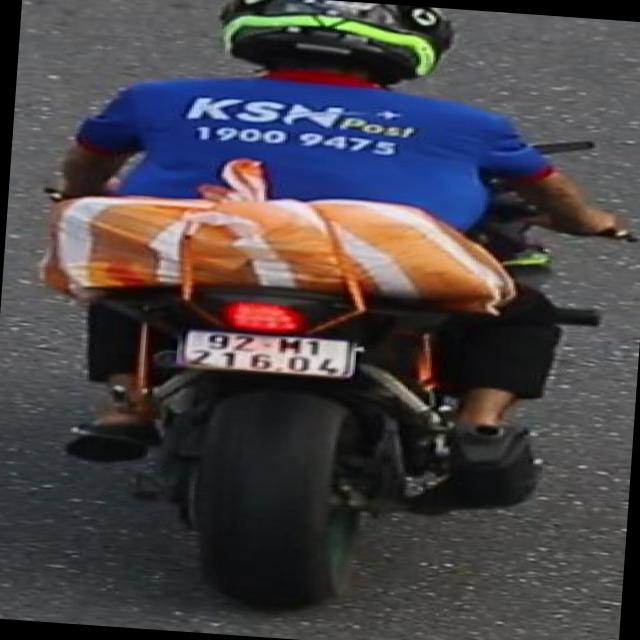LP: (166, 316, 376, 388)
helmet: (176, 0, 479, 112)
